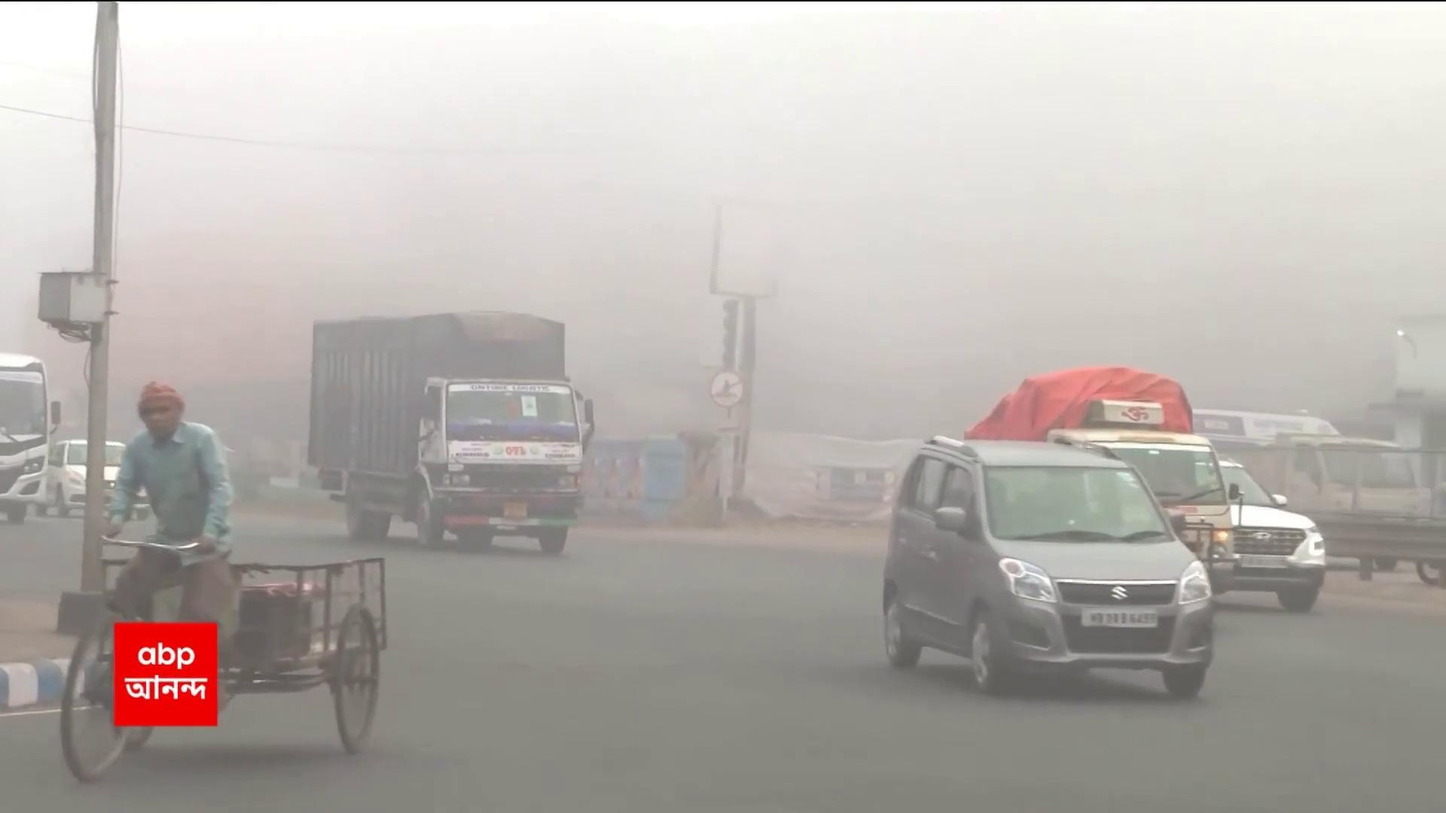Car: (879, 433, 1216, 712)
Truck: (989, 371, 1330, 604), (301, 308, 595, 560)
